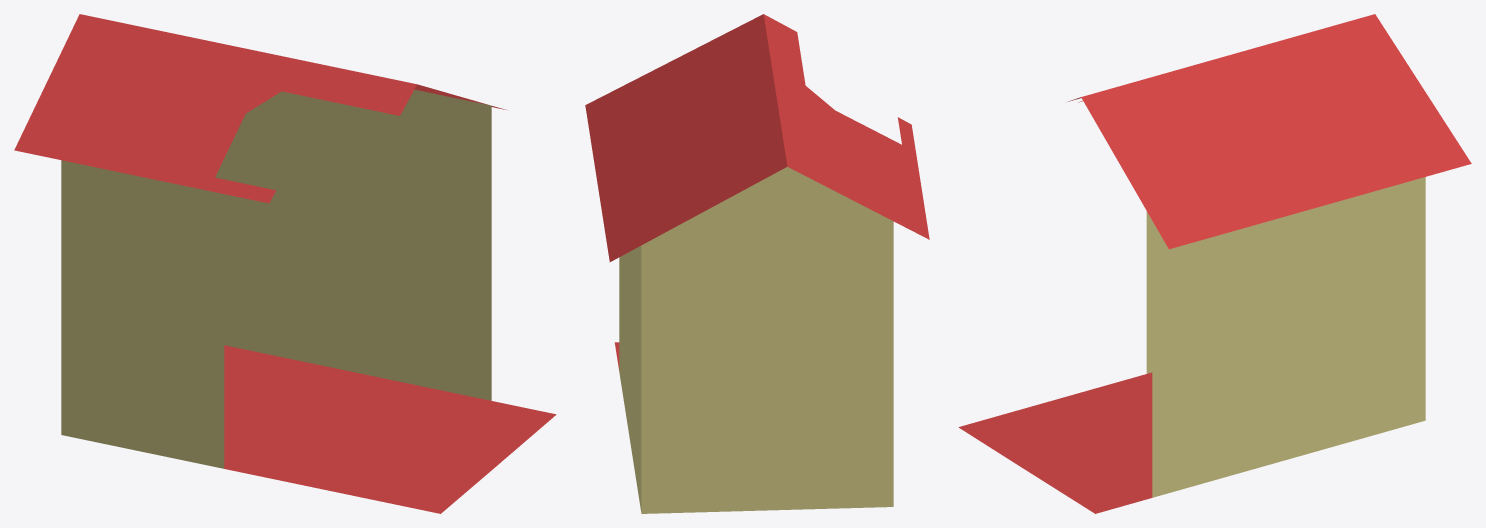
The picture shows the model from 3 angles, left to right: view 1: azimuth 30°, elevation 25°; view 2: azimuth 150°, elevation 25°; view 3: azimuth 270°, elevation 25°; orthographic projection. The views are drawn at different scales.
Bounding box in the file's own units: 10.67 × 11.61 × 8.71.
